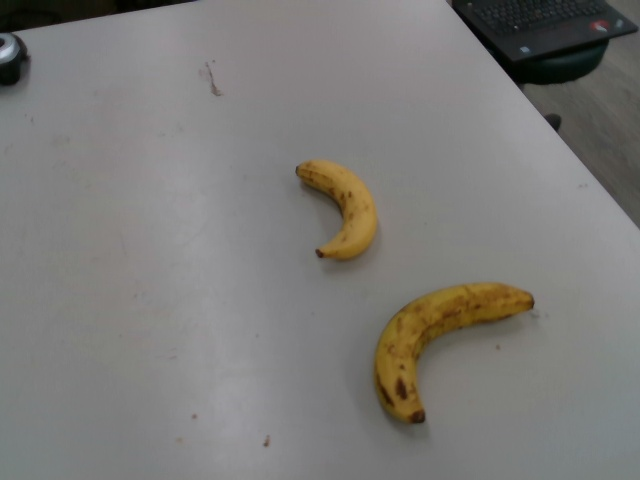banana: (372, 279, 536, 426), (293, 157, 378, 264)
